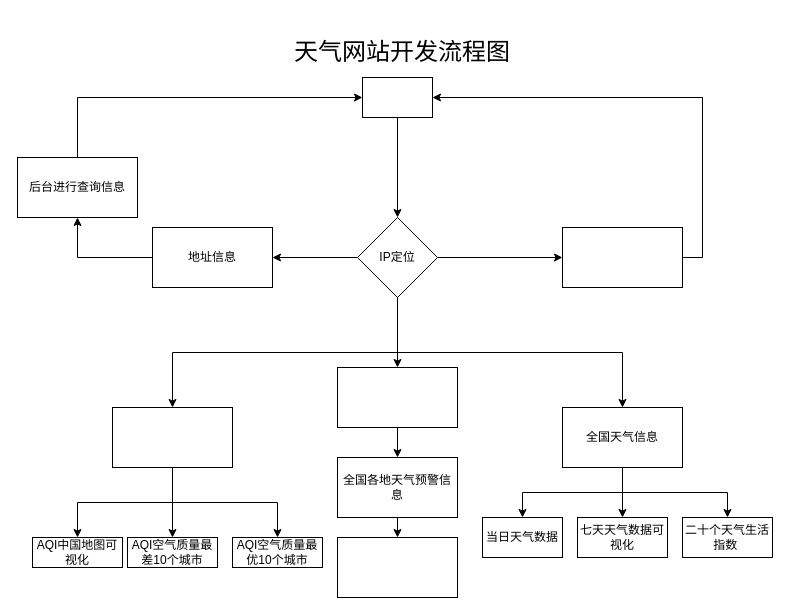
Some shapes in this 790 by 615 pixel diagram are drawn without their labels. Here are the shapes that lost their labels. From the top down, the centre of each, then its label:
At point 397,97: "首页".
At point 622,257: "将北京天气信息展示".
At point 397,397: "天气预警信息".
At point 172,437: "AQI天气可视化".
At point 397,567: "天气预警详细信息".
